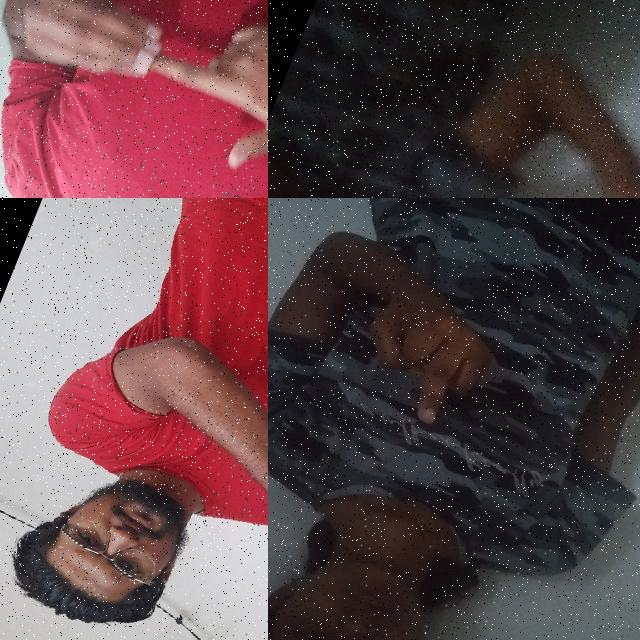Five Fathers: (0, 0, 268, 198)
Middle Finger: (330, 260, 516, 441)
